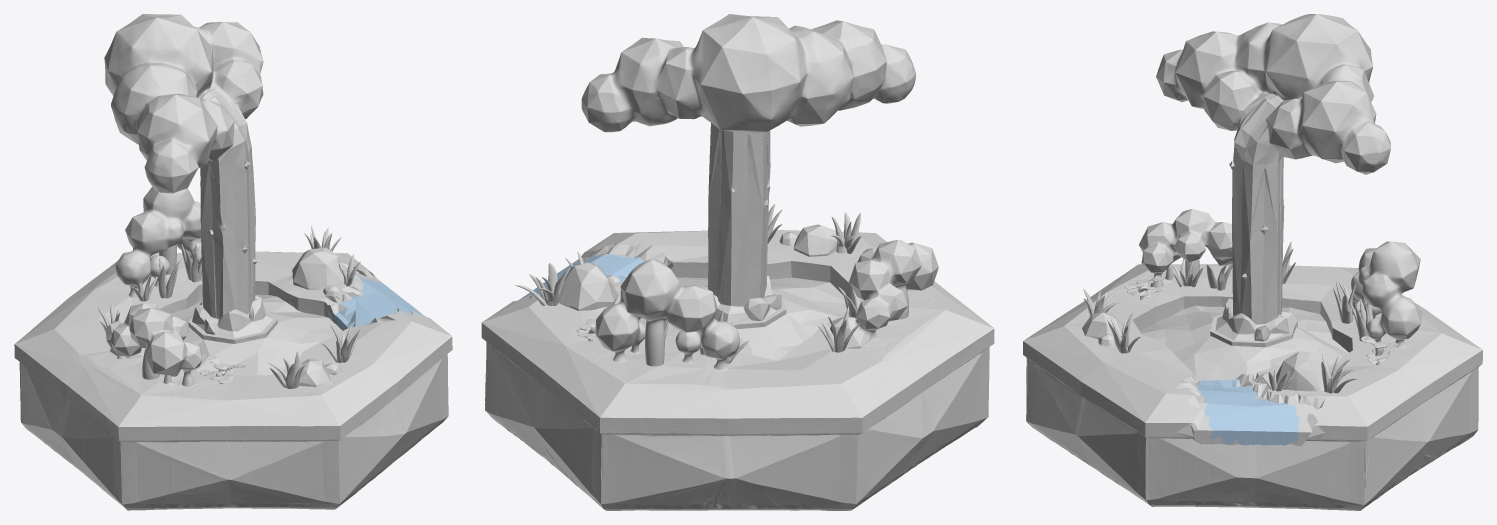
The model's file is upside-down waterfall 2.glb.
3 renders of one model, left to right at view 1: azimuth 30°, elevation 25°; view 2: azimuth 150°, elevation 25°; view 3: azimuth 270°, elevation 25°, orthographic. The views are drawn at different scales.
Parts seen in each view (by area): view 1: threedium_node_eae6ce02-1d34-48fc-af4c-5a4a95c4d9dd; view 2: threedium_node_eae6ce02-1d34-48fc-af4c-5a4a95c4d9dd; view 3: threedium_node_eae6ce02-1d34-48fc-af4c-5a4a95c4d9dd.
Part boxes in pixels (bbox=[...]): threedium_node_eae6ce02-1d34-48fc-af4c-5a4a95c4d9dd: bbox=[14, 14, 452, 510]; threedium_node_eae6ce02-1d34-48fc-af4c-5a4a95c4d9dd: bbox=[481, 14, 994, 510]; threedium_node_eae6ce02-1d34-48fc-af4c-5a4a95c4d9dd: bbox=[1023, 14, 1482, 510].
Size of the model in its own units: 0.9612 by 1.06 by 1.1.
